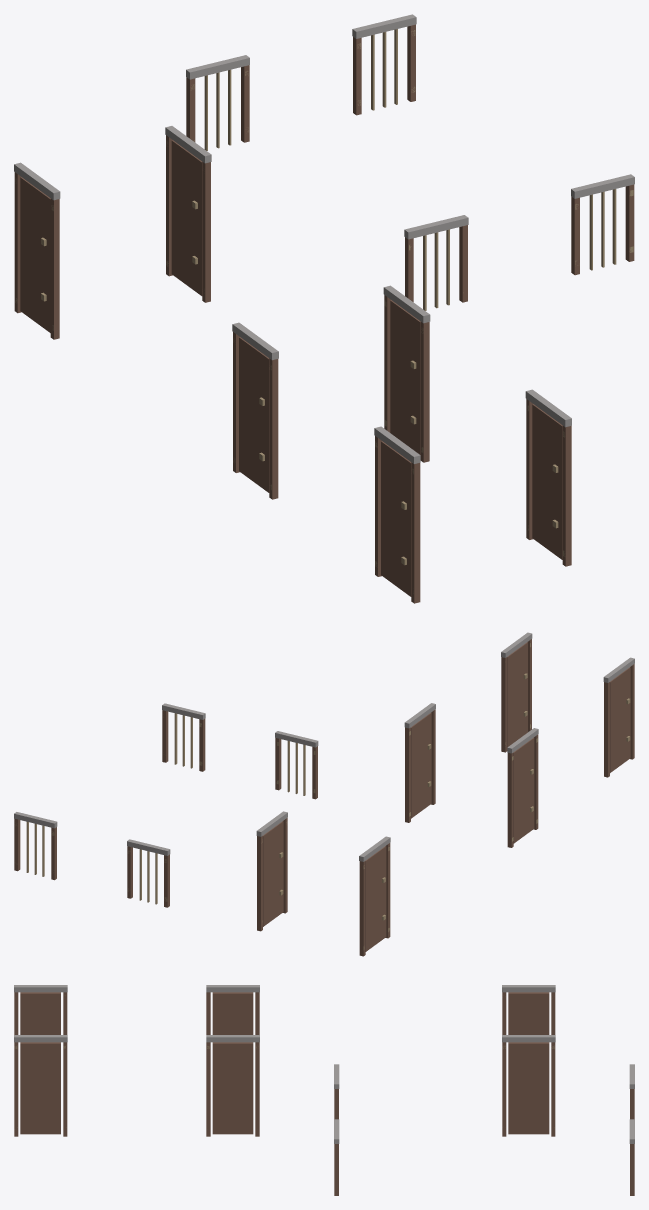
File: door_window_floor_02.glb
3 renders of one model, top to bottom at view 1: azimuth 30°, elevation 25°; view 2: azimuth 150°, elevation 25°; view 3: azimuth 270°, elevation 25°, orthographic. The views are drawn at different scales.
Visible parts, largest first — view 1: fe-f2-room2-door-0-door-leaf, fe-f2-room3-door-0-door-leaf, fe-f2-hall-door-5-door-leaf, fe-f2-hall-door-4-door-leaf, fe-f2-room1-door-0-door-leaf, fe-f2-room4-door-0-door-leaf, fe-f2-room1-door-0-carved-jamb-1, fe-f2-room3-door-0-carved-jamb-1, fe-f2-hall-door-4-carved-jamb-1, fe-f2-room4-door-0-carved-jamb-1, fe-f2-hall-door-5-carved-jamb-1, fe-f2-room2-door-0-carved-jamb-1 (+6 smaller); view 2: fe-f2-room3-door-0-door-leaf, fe-f2-room1-door-0-door-leaf, fe-f2-hall-door-4-door-leaf, fe-f2-room2-door-0-door-leaf, fe-f2-room4-door-0-door-leaf, fe-f2-hall-door-5-door-leaf, fe-f2-room1-door-0-carved-jamb--1, fe-f2-hall-door-5-carved-jamb--1, fe-f2-room3-door-0-carved-jamb--1, fe-f2-room2-door-0-carved-jamb--1, fe-f2-hall-door-4-carved-jamb--1, fe-f2-room4-door-0-carved-jamb--1 (+5 smaller); view 3: fe-f2-room2-door-0-door-leaf, fe-f2-room4-door-0-door-leaf, fe-f2-hall-door-5-door-leaf, fe-f2-room1-door-0-door-leaf, fe-f2-room3-door-0-door-leaf, fe-f2-hall-door-4-door-leaf, fe-f2-room2-door-0-carved-jamb--1, fe-f2-room2-door-0-carved-jamb-1, fe-f2-room4-door-0-carved-jamb--1, fe-f2-room4-door-0-carved-jamb-1, fe-f2-hall-door-5-carved-jamb--1, fe-f2-hall-door-5-carved-jamb-1 (+6 smaller).
Part boxes in pixels (x1,y1,x2,y2): fe-f2-room2-door-0-door-leaf: (171,140,202,295); fe-f2-room3-door-0-door-leaf: (239,337,269,492); fe-f2-hall-door-5-door-leaf: (532,404,562,559); fe-f2-hall-door-4-door-leaf: (381,441,411,596); fe-f2-room1-door-0-door-leaf: (20,177,50,332); fe-f2-room4-door-0-door-leaf: (390,300,420,454); fe-f2-room1-door-0-carved-jamb-1: (50,198,59,339); fe-f2-room3-door-0-carved-jamb-1: (269,358,278,499); fe-f2-hall-door-4-carved-jamb-1: (411,462,420,603); fe-f2-room4-door-0-carved-jamb-1: (420,322,429,462); fe-f2-hall-door-5-carved-jamb-1: (562,425,571,566); fe-f2-room2-door-0-carved-jamb-1: (202,162,210,302); fe-f2-room3-door-0-door-leaf: (513,738,534,843); fe-f2-room1-door-0-door-leaf: (365,846,386,951); fe-f2-hall-door-4-door-leaf: (610,667,630,772); fe-f2-room2-door-0-door-leaf: (263,821,283,926); fe-f2-room4-door-0-door-leaf: (411,713,431,818); fe-f2-hall-door-5-door-leaf: (507,642,527,747); fe-f2-room1-door-0-carved-jamb--1: (359,861,365,956); fe-f2-hall-door-5-carved-jamb--1: (501,657,507,752); fe-f2-room3-door-0-carved-jamb--1: (507,752,513,847); fe-f2-room2-door-0-carved-jamb--1: (257,836,262,931); fe-f2-hall-door-4-carved-jamb--1: (604,682,609,777); fe-f2-room4-door-0-carved-jamb--1: (405,727,410,822); fe-f2-room2-door-0-door-leaf: (508,1042,549,1134); fe-f2-room4-door-0-door-leaf: (212,1042,253,1134); fe-f2-hall-door-5-door-leaf: (20,1042,60,1134); fe-f2-room1-door-0-door-leaf: (508,992,549,1034); fe-f2-room3-door-0-door-leaf: (212,992,253,1034); fe-f2-hall-door-4-door-leaf: (20,992,60,1034); fe-f2-room2-door-0-carved-jamb--1: (551,1042,555,1136); fe-f2-room2-door-0-carved-jamb-1: (502,1042,506,1136); fe-f2-room4-door-0-carved-jamb--1: (255,1042,259,1136); fe-f2-room4-door-0-carved-jamb-1: (206,1042,210,1136); fe-f2-hall-door-5-carved-jamb--1: (63,1042,67,1136); fe-f2-hall-door-5-carved-jamb-1: (14,1042,18,1136).
Bounding box in the file's own units: 7.39 × 2.26 × 12.8.
